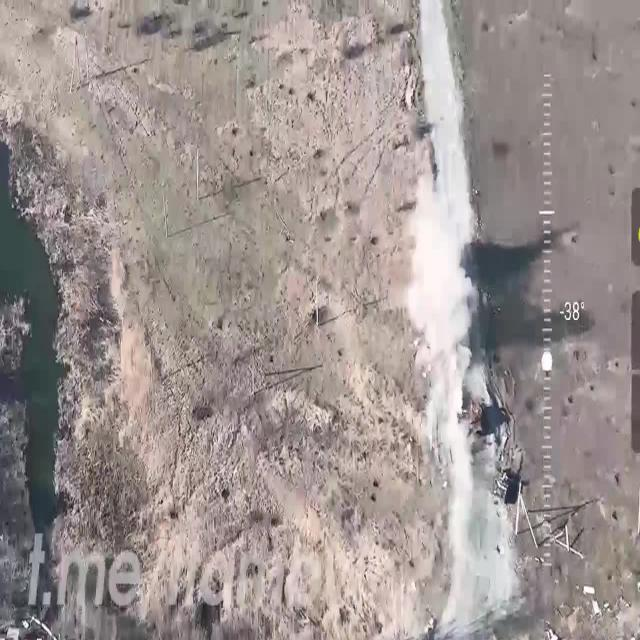tank: (468, 396, 485, 434), (493, 472, 509, 500)
